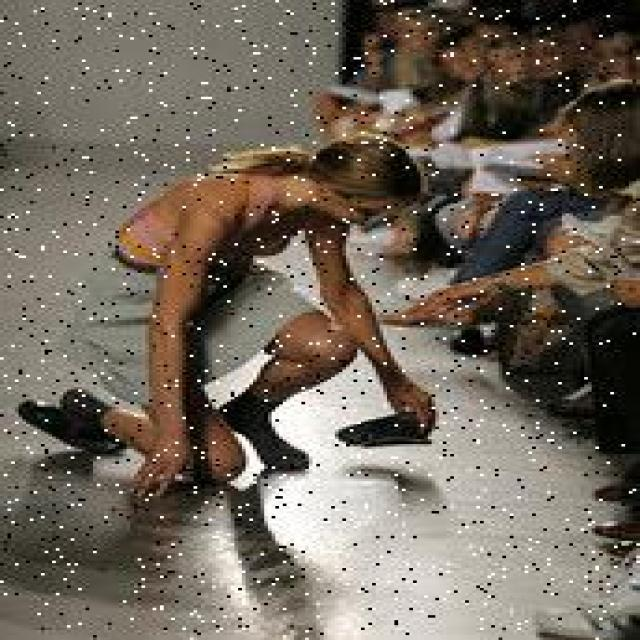fall: (33, 146, 428, 464)
